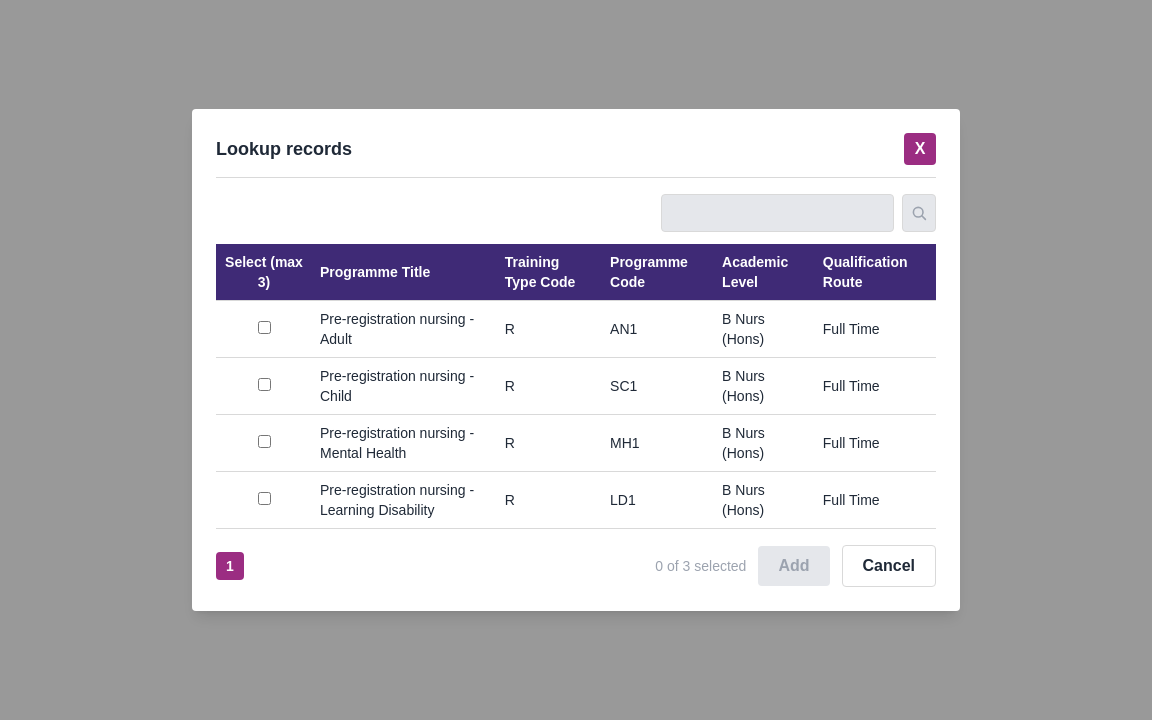
Test: CourseLookupModal › caps selection at 3: a 4th row's checkbox is disabled, and unchecking one re-enables selection
Click the checkbox named "Pre-registration nursing - Adult" at (264, 328), box [258,321,270,334]
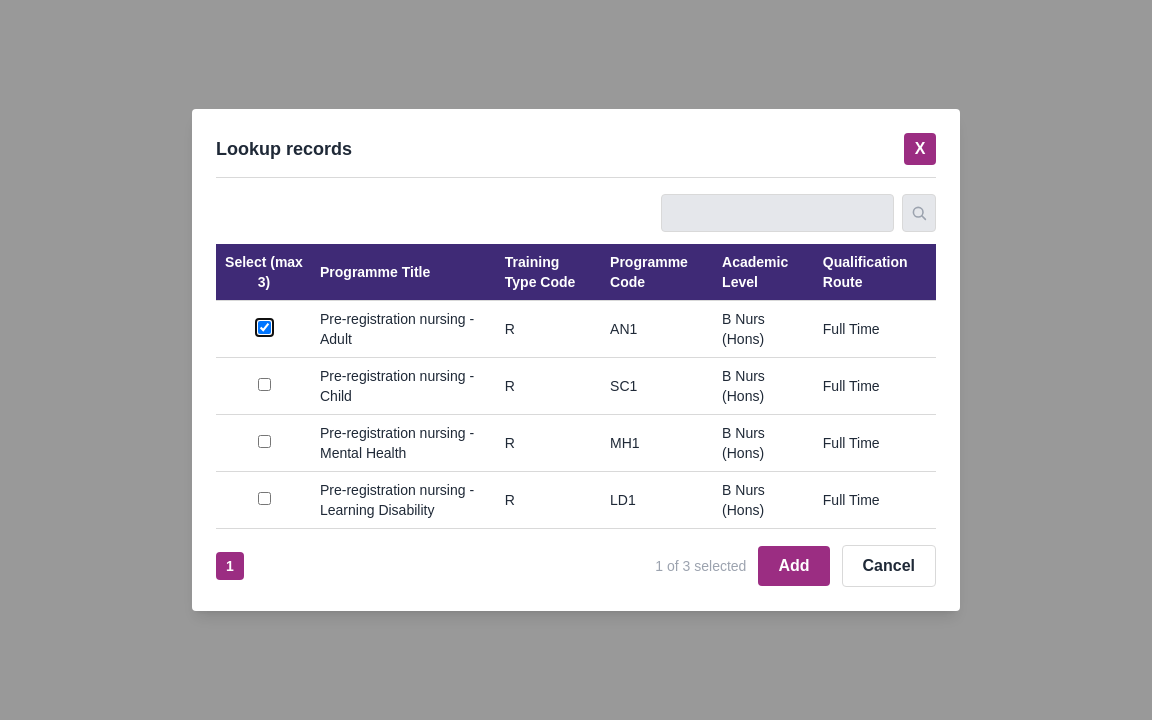
Click the checkbox named "Pre-registration nursing - Child" at (264, 384), box [258,378,270,391]
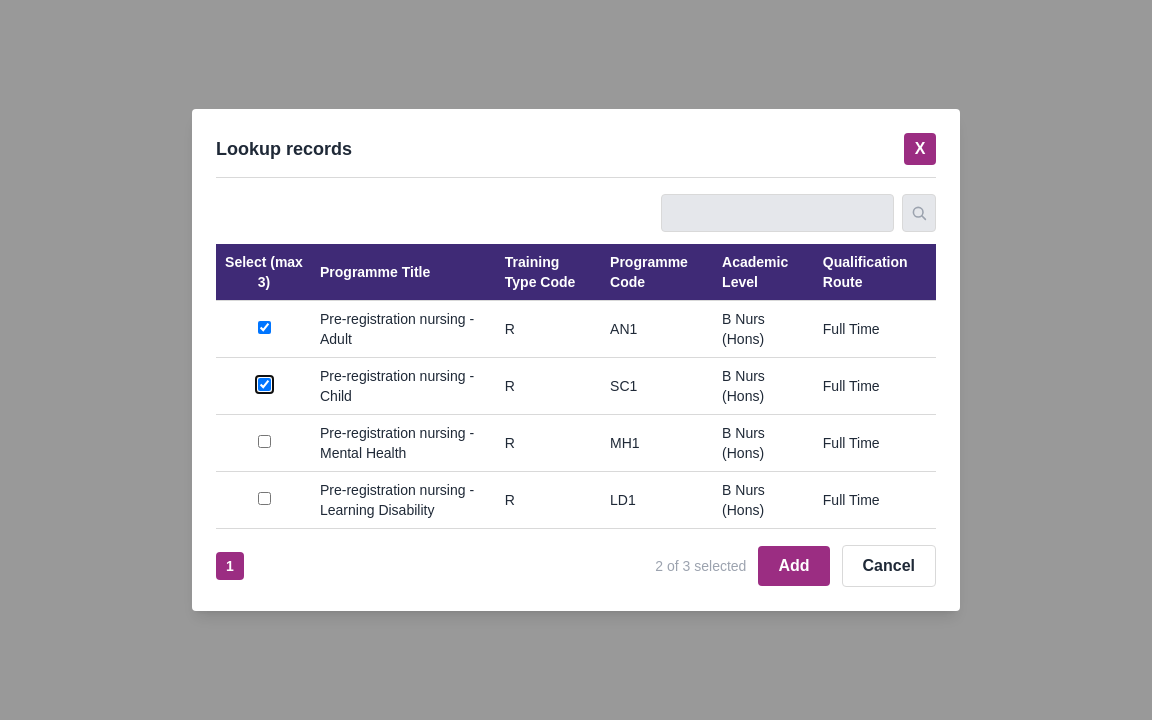
Click the checkbox named "Pre-registration nursing - Mental Health" at (264, 442), box [258,435,270,448]
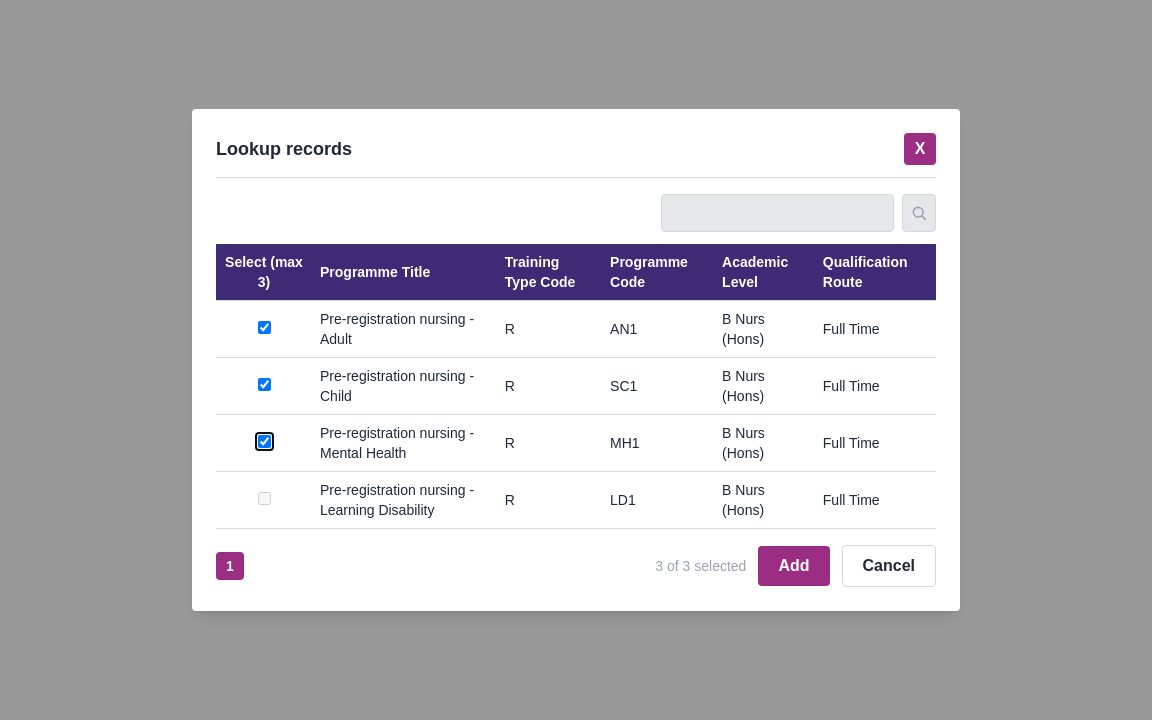
Now the text "3 of 3 selected" is shown, box [655,556,746,576]
Now the checkbox named "Pre-registration nursing - Learning Disability" is disabled, box [258,492,270,505]
Click the checkbox named "Pre-registration nursing - Adult" at (264, 328), box [258,321,270,334]
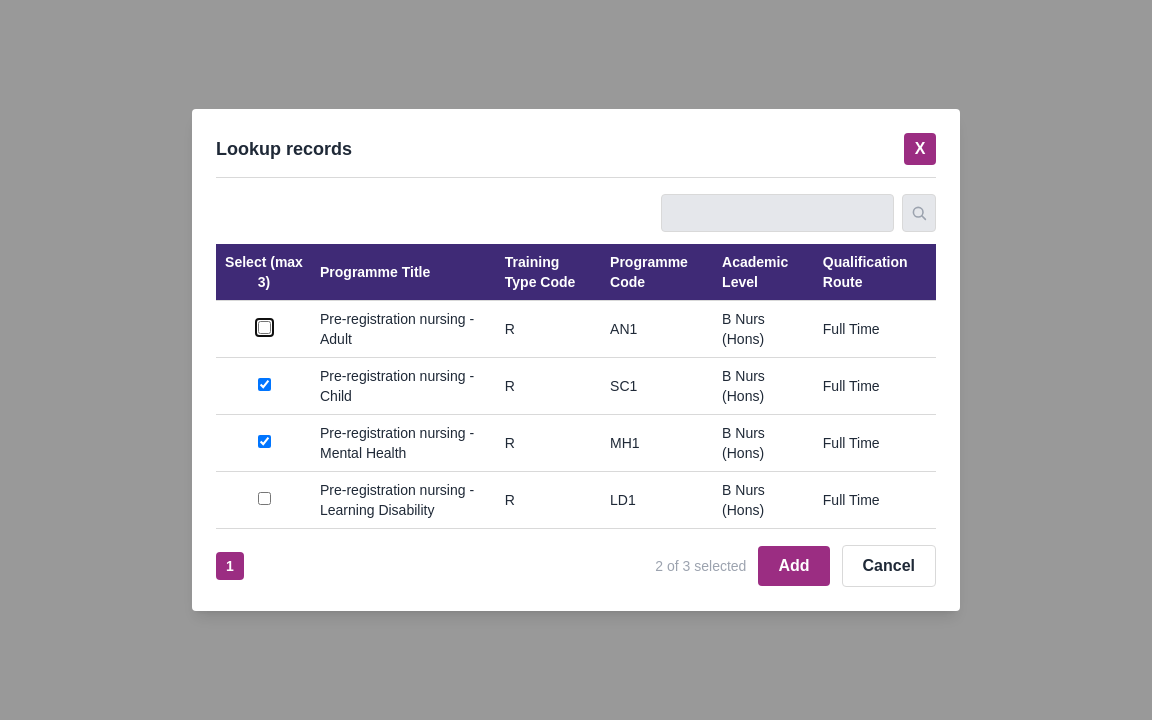
Now the checkbox named "Pre-registration nursing - Adult" is not checked, box [258,321,270,334]
Now the checkbox named "Pre-registration nursing - Learning Disability" is enabled, box [258,492,270,505]
